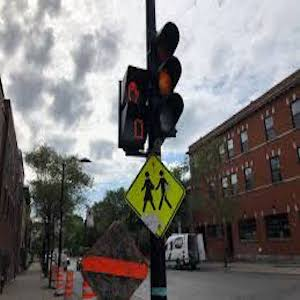red: (125, 79, 145, 112)
